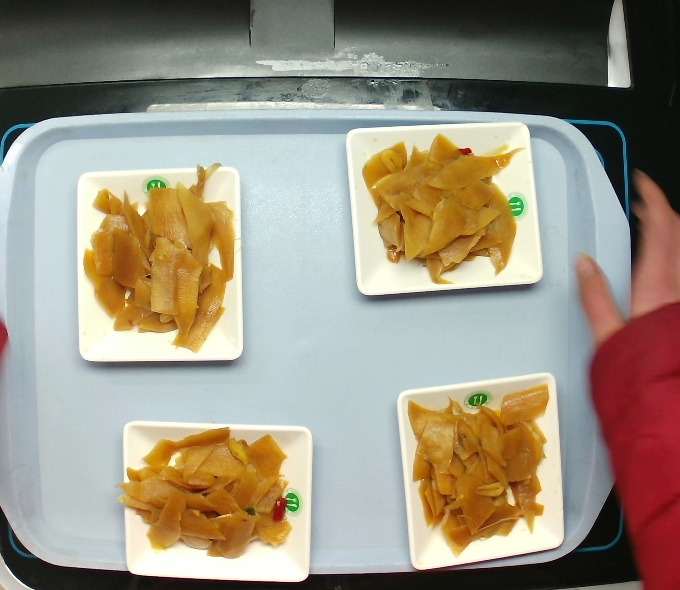wcq-JiangLuoBo: (77, 154, 247, 365), (112, 423, 299, 563), (409, 380, 551, 558), (369, 133, 518, 288)
